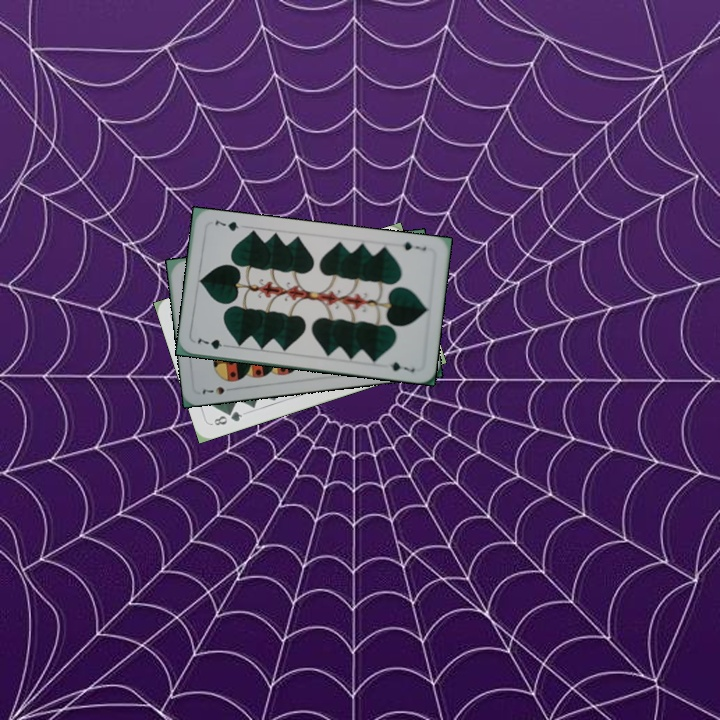G7: (193, 334, 233, 352), (394, 238, 429, 253)
G8: (210, 407, 245, 428)
S7: (198, 382, 237, 397)
